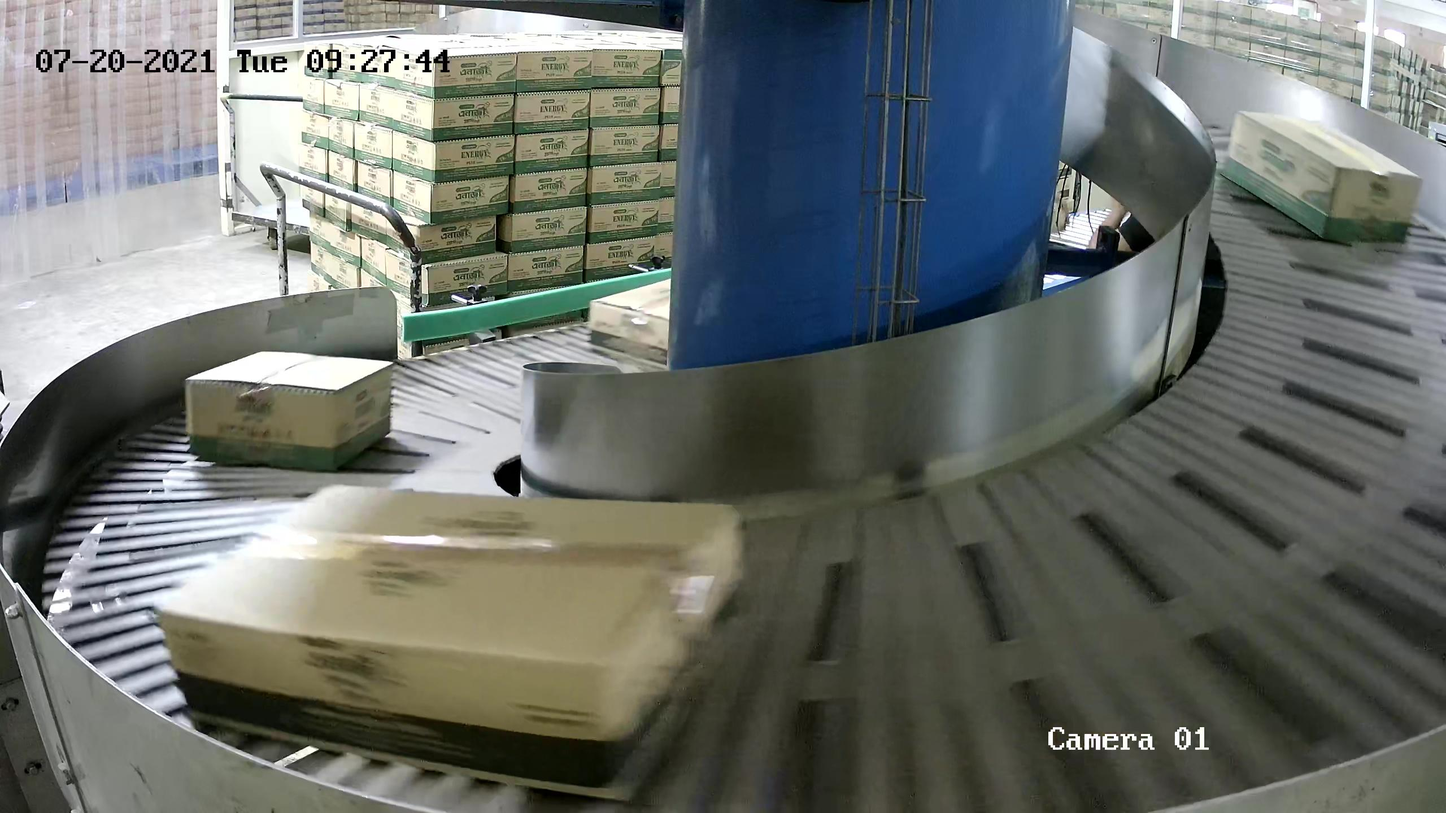Box: (151, 478, 753, 810), (1218, 106, 1425, 245), (182, 348, 395, 473), (588, 276, 672, 370)
